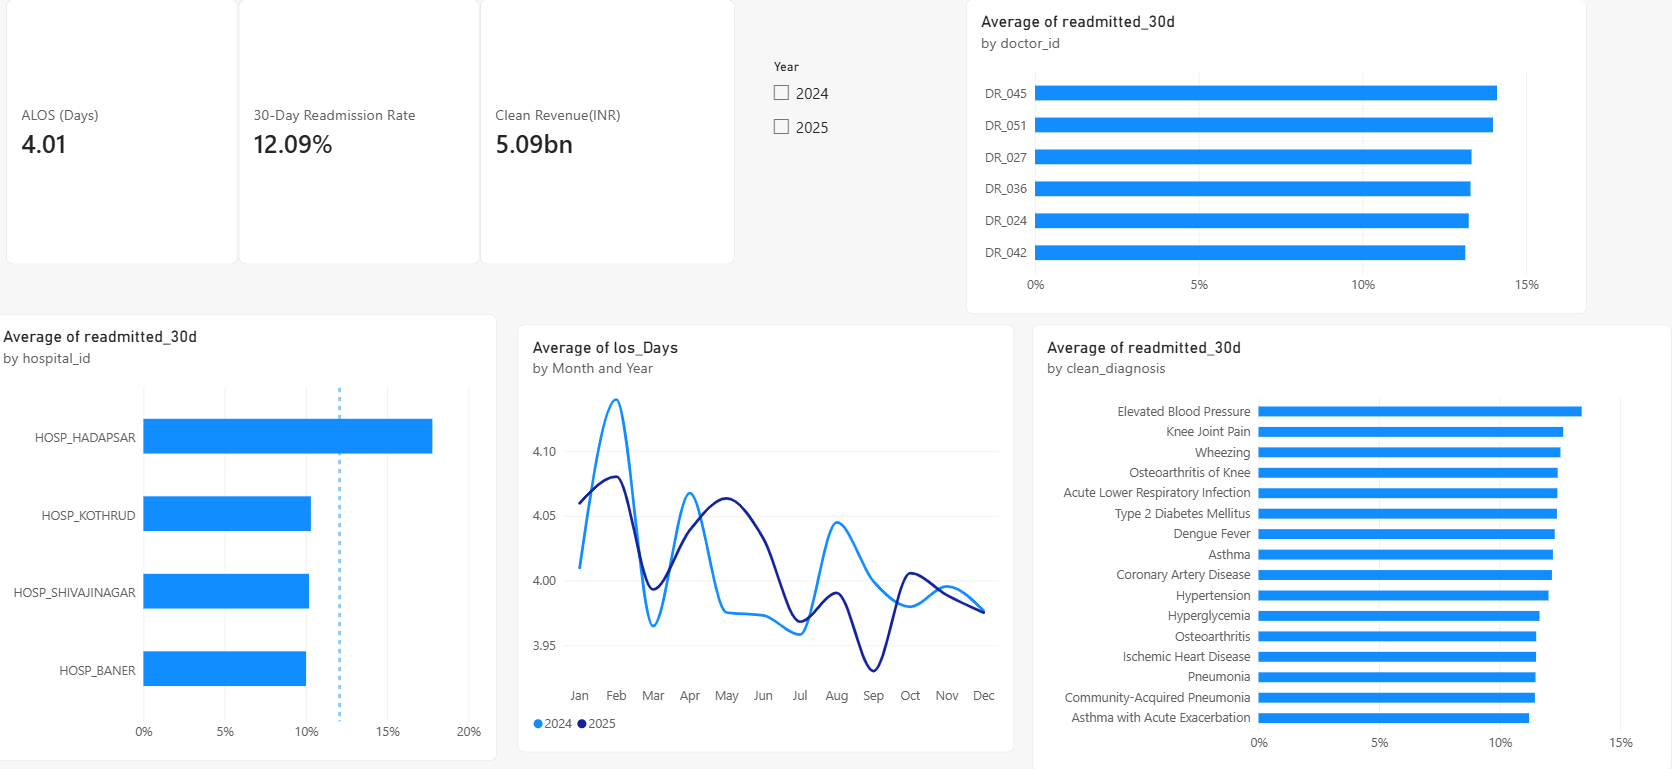

Layout of this report page (visuals, bound fields, positions):
{"tool":"powerbi","page":{"name":"Page 1","canvas":[1920,1080],"ordinal":0},"visuals":[{"type":"cardVisual","fields":{"Data":["Avg(admissions.los_Days)"]},"box":[19.8,0,198.4,269.3],"z":0},{"type":"cardVisual","fields":{"Data":["Avg(admissions.readmitted_30d)"]},"box":[235,0,158.3,270],"z":1000},{"type":"cardVisual","fields":{"Data":["Sum(billing.clean_total_billed_inr)"]},"box":[393.3,0,158.3,155],"z":2000},{"type":"slicer","fields":{"Values":["Calendar.Year"]},"box":[551.7,126.7,106.5,144.2],"z":3000},{"type":"clusteredBarChart","fields":{"Category":["admissions.hospital_id"],"Y":["Avg(admissions.readmitted_30d)"]},"box":[0,303.3,393.3,495],"z":4000},{"type":"lineChart","fields":{"Category":["Calendar.Month"],"Series":["Calendar.Year"],"Y":["Avg(admissions.los_Days)"]},"box":[415,291.7,323.3,496.7],"z":5000},{"type":"clusteredBarChart","fields":{"Category":["admissions.doctor_id"],"Y":["Avg(admissions.readmitted_30d)"]},"box":[688.3,25,438.3,245],"z":6000},{"type":"clusteredBarChart","fields":{"Category":["admissions.clean_diagnosis"],"Y":["Avg(admissions.readmitted_30d)"]},"box":[761.7,270,593.3,496.7],"z":7000}]}

Visuals, with their boxes on the page's 1920x1080 design canvas (x1, y1, x2, y2). These are canvas units, not pixel positions in the 1672x769 screenshot, which may show the page scaled, cropped or inside an application window:
cardVisual - Avg(admissions.los_Days): bbox=(20, 0, 218, 269)
cardVisual - Avg(admissions.readmitted_30d): bbox=(235, 0, 393, 270)
cardVisual - Sum(billing.clean_total_billed_inr): bbox=(393, 0, 552, 155)
slicer - Calendar.Year: bbox=(552, 127, 658, 271)
clusteredBarChart - admissions.hospital_id x Avg(admissions.readmitted_30d): bbox=(0, 303, 393, 798)
lineChart - Calendar.Month x Calendar.Year: bbox=(415, 292, 738, 788)
clusteredBarChart - admissions.doctor_id x Avg(admissions.readmitted_30d): bbox=(688, 25, 1127, 270)
clusteredBarChart - admissions.clean_diagnosis x Avg(admissions.readmitted_30d): bbox=(762, 270, 1355, 767)
